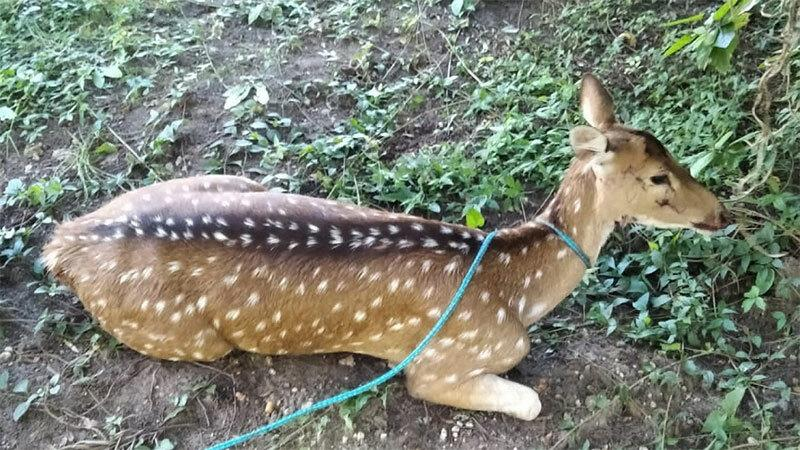Deer: (41, 75, 726, 419)
